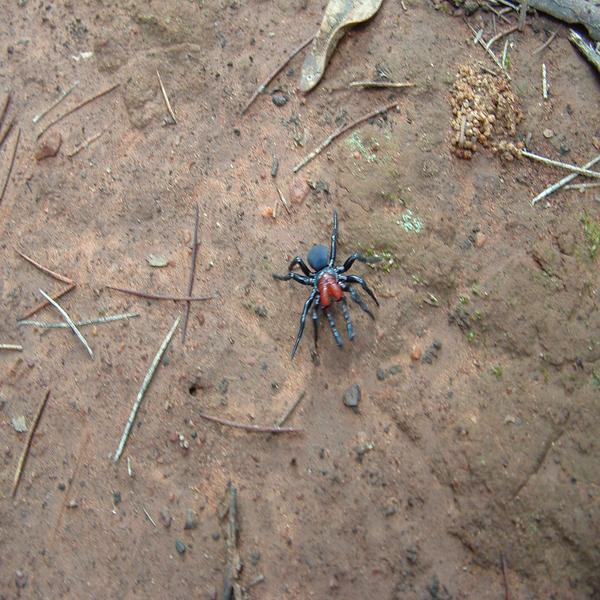Red Headed Mouse Spider: (278, 212, 382, 367)
